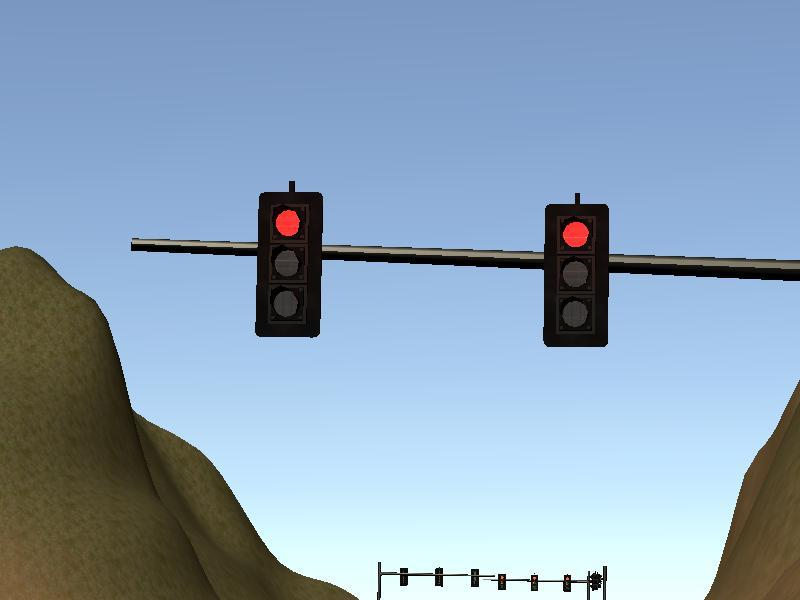Red: (254, 192, 319, 337), (543, 203, 608, 348), (498, 572, 506, 592), (530, 573, 538, 593), (563, 574, 570, 593)
